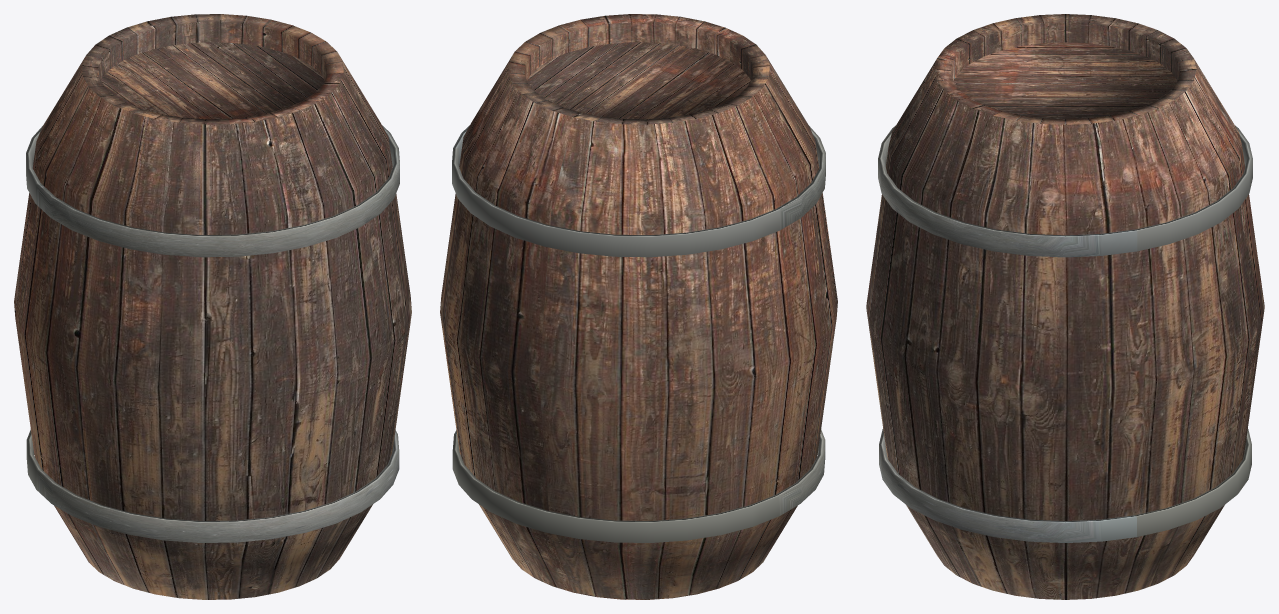
File: barrel_pathmode.fbx
The picture shows the model from 3 angles, left to right: view 1: azimuth 30°, elevation 25°; view 2: azimuth 150°, elevation 25°; view 3: azimuth 270°, elevation 25°; orthographic projection.
Visible parts, largest first — view 1: Cylinder, Circle.002, Circle.001; view 2: Cylinder, Circle.002, Circle.001; view 3: Cylinder, Circle.002, Circle.001.
Part boxes in pixels (x1=…): Cylinder: x1=14, y1=14, x2=411, y2=599; Circle.002: x1=26, y1=125, x2=399, y2=257; Circle.001: x1=26, y1=429, x2=399, y2=542; Cylinder: x1=440, y1=14, x2=837, y2=599; Circle.002: x1=452, y1=125, x2=825, y2=257; Circle.001: x1=452, y1=429, x2=825, y2=542; Cylinder: x1=866, y1=14, x2=1264, y2=599; Circle.002: x1=878, y1=125, x2=1252, y2=257; Circle.001: x1=879, y1=429, x2=1251, y2=542.
Size of the model in its own units: 304 by 400 by 304.
Materials: 2 (2 with a texture image).
